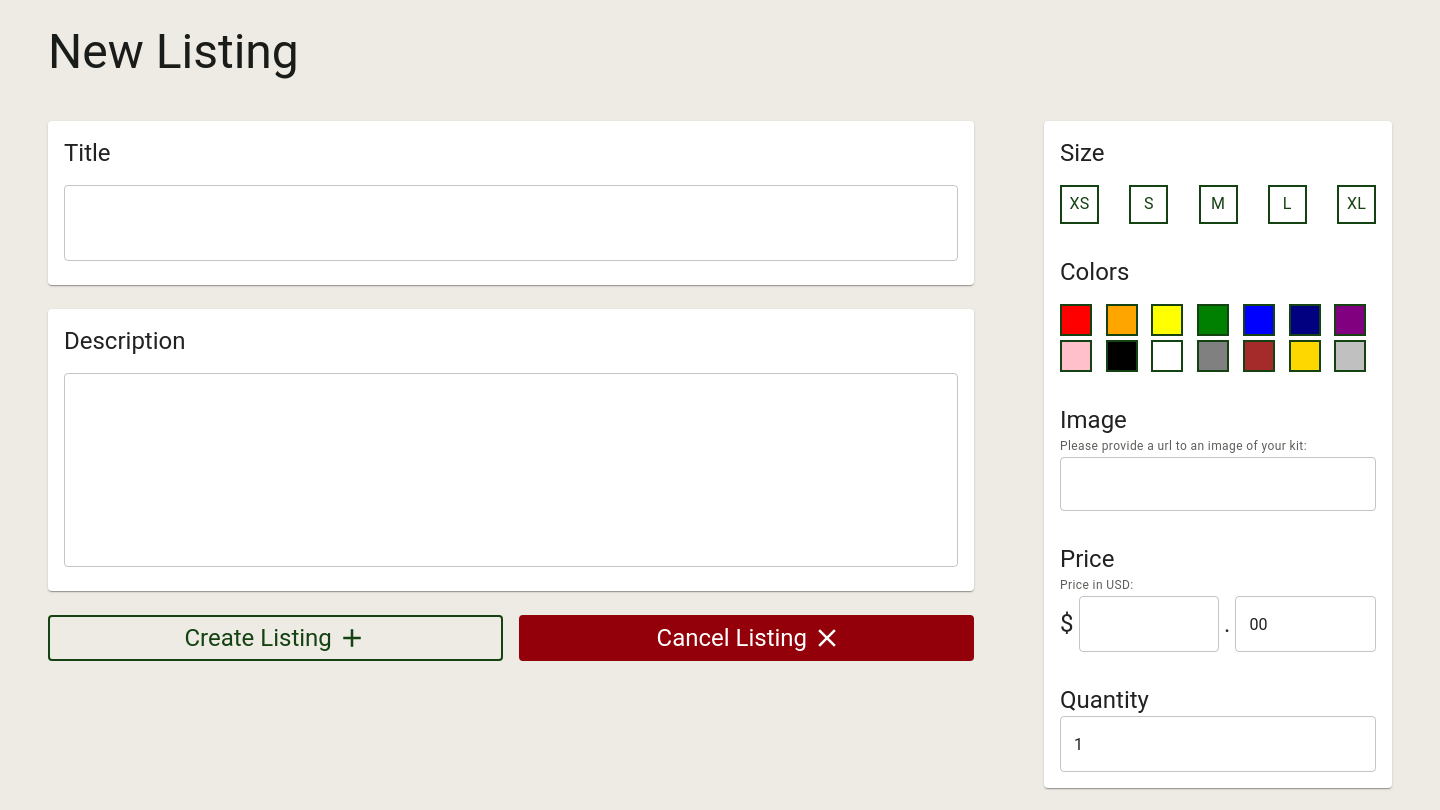
Test: ListingFormPage › wont type non numbers or >2 digits into cents field
Replace the text in the field named "cents" with "12f.-3" at (1306, 624), box 1235,596 -> 1376,652
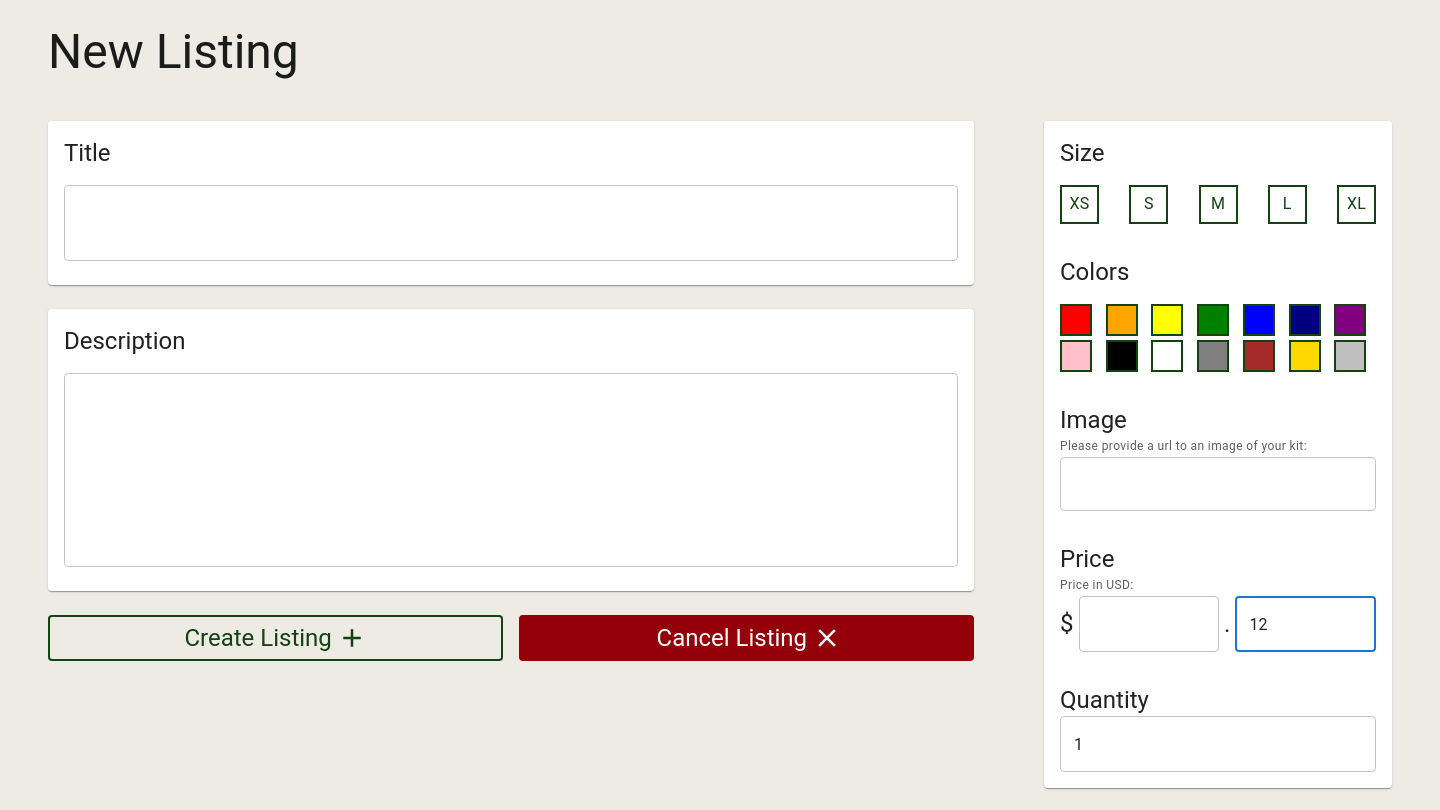
Expected: the field named "cents" holds "12", 1235,596 -> 1376,652
